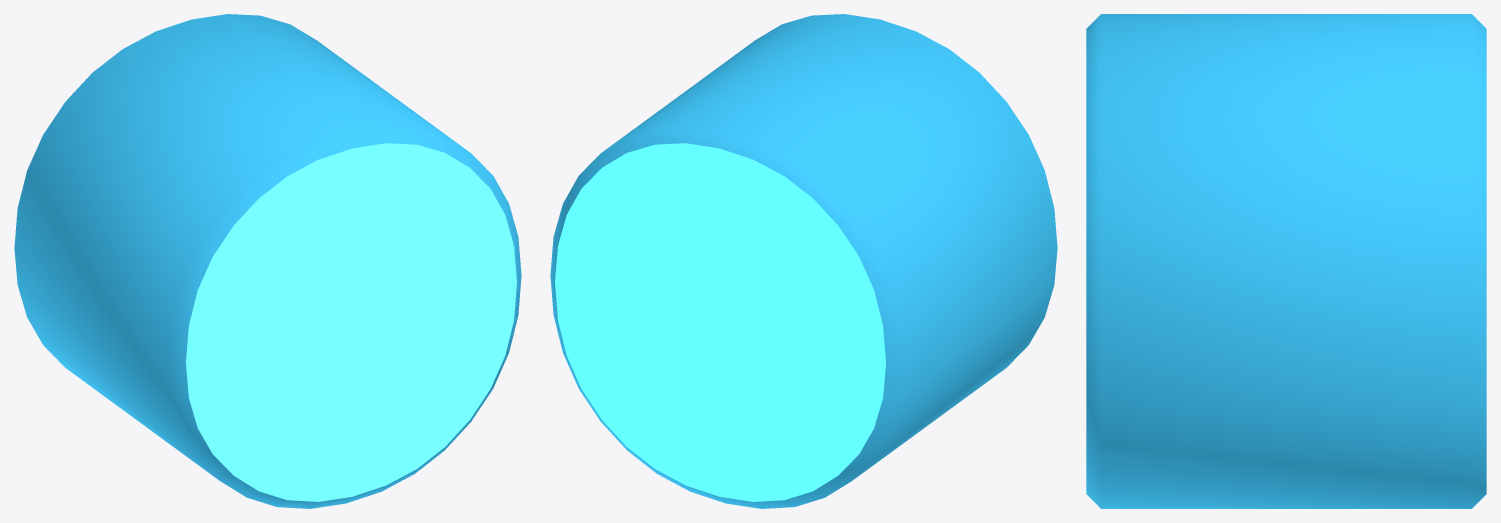
3 renders of one model, left to right at view 1: azimuth 30°, elevation 25°; view 2: azimuth 150°, elevation 25°; view 3: azimuth 270°, elevation 25°, orthographic. The views are drawn at different scales.
Visible parts, largest first — view 1: glyph; view 2: glyph; view 3: glyph.
Boxes of the visible parts, x1,y1,x2,y2 form: glyph: (14, 14, 521, 508); glyph: (550, 14, 1057, 508); glyph: (1086, 14, 1486, 508).
Bounding box in the file's own units: 0.0198 × 0.0199 × 0.0162.
